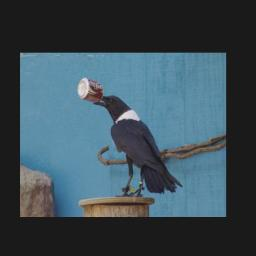Crow: (92, 94, 183, 198)
